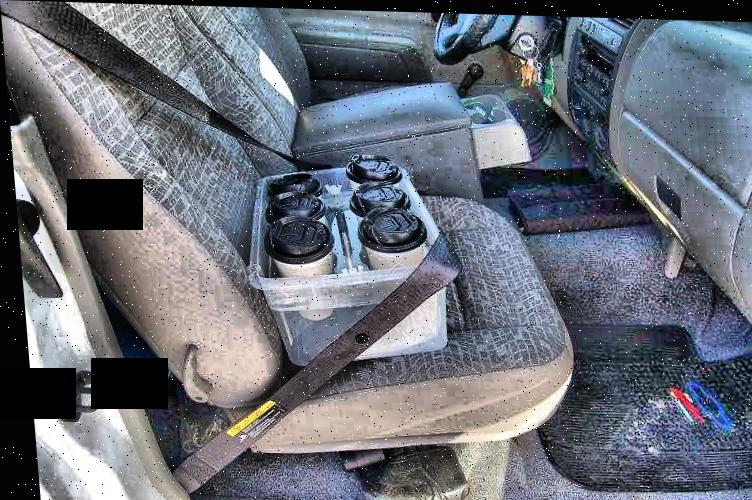seatbelt: (56, 14, 492, 324)
